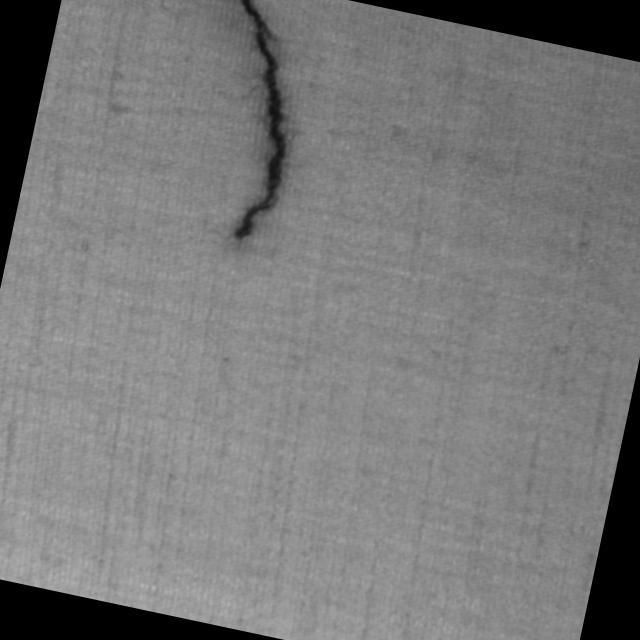Thread: (167, 0, 329, 249)
